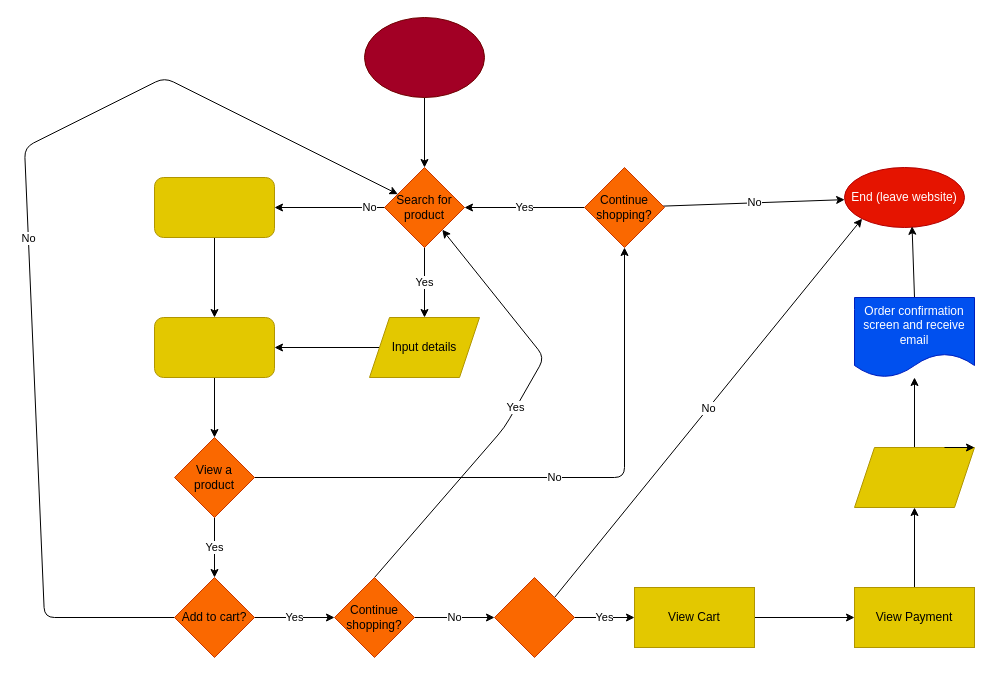
This 1000x675 diagram has some shape labels left out. Each missing label, with the box of its shape:
Checkout?: (494, 576, 574, 658)
Explore home page: (154, 176, 274, 238)
Give payment: (854, 446, 974, 508)
Look over products: (154, 316, 274, 378)
Start: (364, 16, 484, 98)
